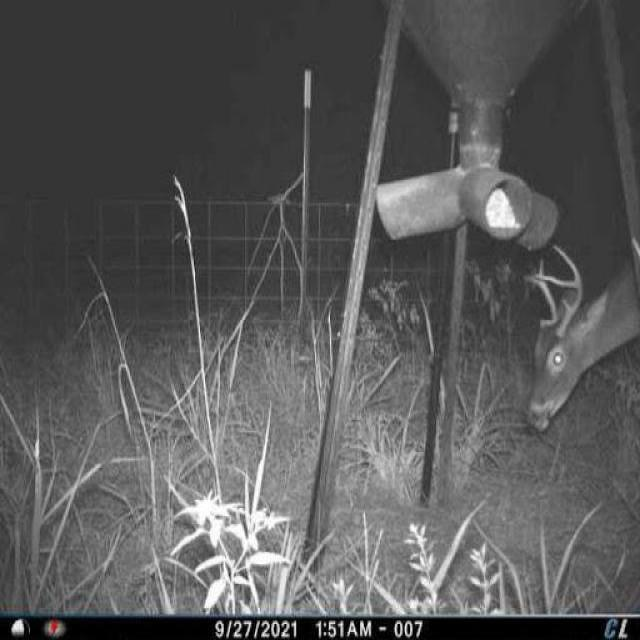deer: (512, 223, 640, 441)
